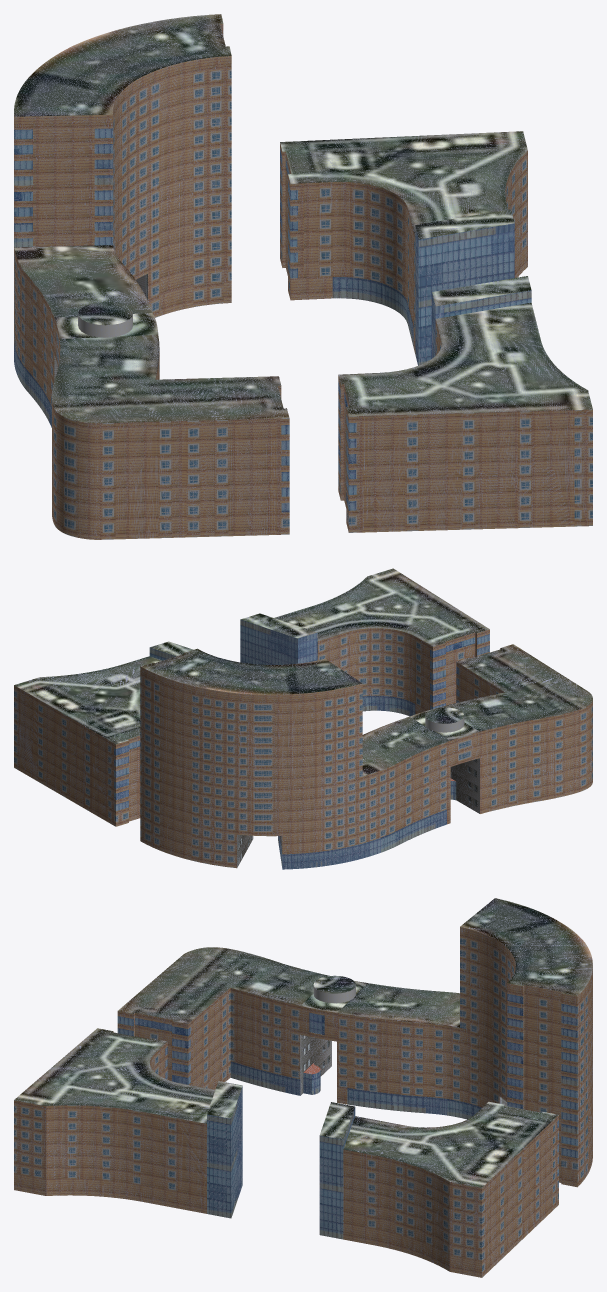
Rendered from WVABC.dae.
The picture shows the model from 3 angles, top to bottom: view 1: azimuth 30°, elevation 25°; view 2: azimuth 150°, elevation 25°; view 3: azimuth 270°, elevation 25°; orthographic projection. The views are drawn at different scales.
Parts seen in each view (by area): view 1: group_1 (×23), group_0 (×13), group_2 (×12); view 2: group_1 (×29), group_0 (×12), group_2 (×11); view 3: group_1 (×32), group_0 (×9), group_2 (×13).
Boxes of the visible parts, left/top/right/bottom form: group_1 (×23): left=14, top=14, right=289, bottom=539; group_0 (×13): left=338, top=276, right=592, bottom=532; group_2 (×12): left=280, top=131, right=527, bottom=365; group_1 (×29): left=140, top=644, right=592, bottom=869; group_0 (×12): left=240, top=568, right=489, bottom=716; group_2 (×11): left=14, top=656, right=162, bottom=826; group_1 (×32): left=118, top=898, right=592, bottom=1187; group_0 (×9): left=14, top=1028, right=242, bottom=1218; group_2 (×13): left=319, top=1101, right=558, bottom=1277.
Bounding box in the file's own units: 5156 × 5242 × 1908.
9 materials, 5 textured.
